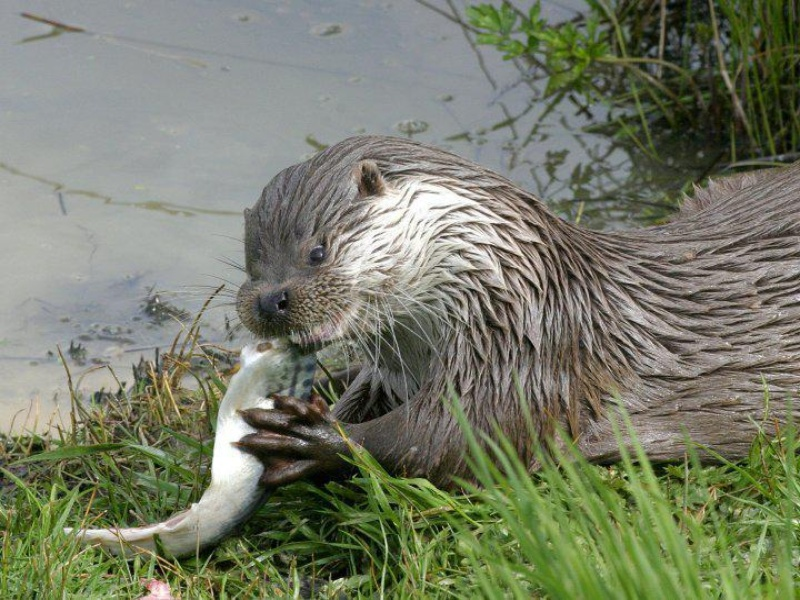minkish: (234, 113, 796, 492)
